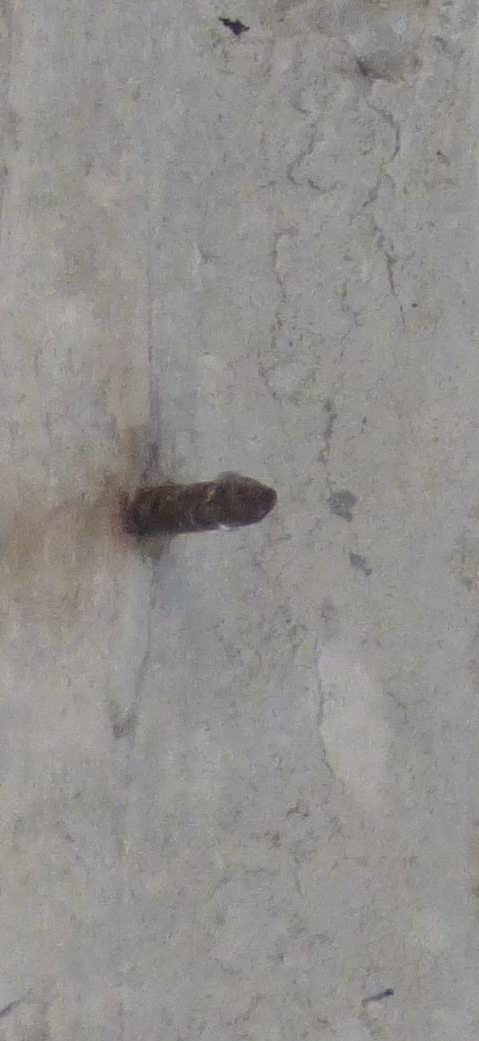Exposed reinforcement: (123, 469, 279, 537)
